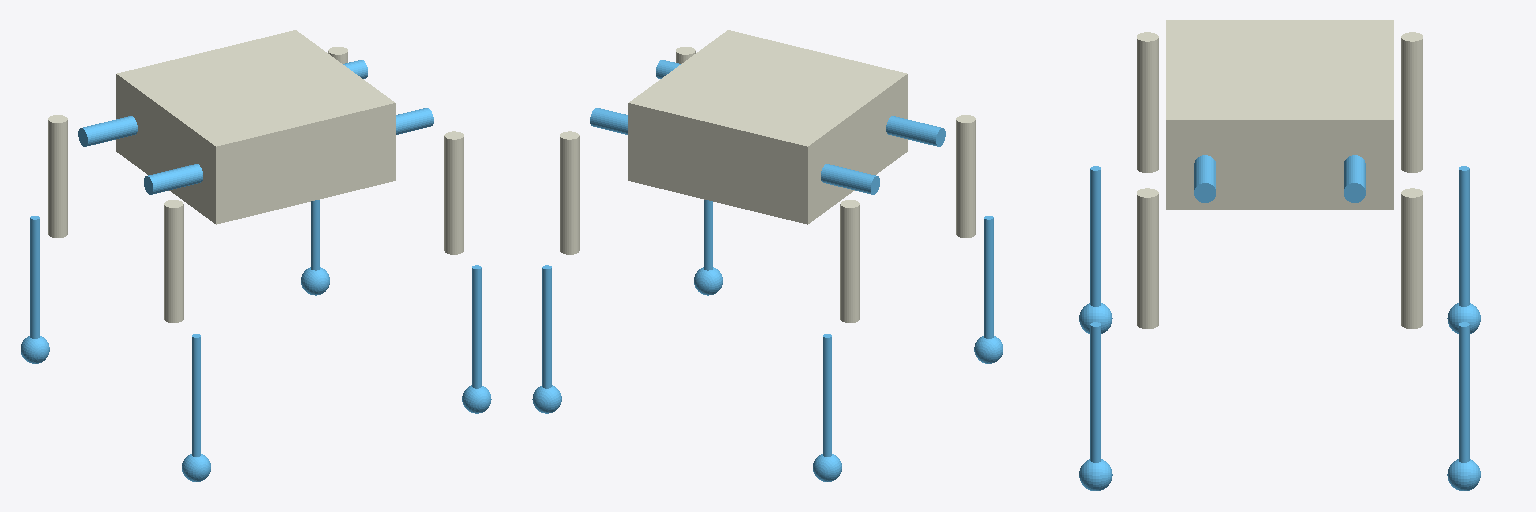
URDF robot description (mors_sim):
<?xml version="1.0" ?>
<!-- =================================================================================== -->
<!-- |    This document was autogenerated by xacro from mors.xacro                     | -->
<!-- |    EDITING THIS FILE BY HAND IS NOT RECOMMENDED                                 | -->
<!-- =================================================================================== -->
<robot name="mors_sim">
  <material name="black">
    <color rgba="0.0 0.0 0.0 1.0"/>
  </material>
  <material name="blue">
    <color rgba="0.0 0.0 0.8 1.0"/>
  </material>
  <material name="green">
    <color rgba="0.0 0.8 0.0 1.0"/>
  </material>
  <material name="grey">
    <color rgba="0.2 0.2 0.2 1.0"/>
  </material>
  <material name="silver">
    <color rgba="0.9137254901960784 0.9137254901960784 0.8470588235294118 1.0"/>
  </material>
  <material name="orange">
    <color rgba="1.0 0.4235294117647059 0.0392156862745098 1.0"/>
  </material>
  <material name="brown">
    <color rgba="0.8705882352941177 0.8117647058823529 0.7647058823529411 1.0"/>
  </material>
  <material name="white_gray">
    <color rgba="0.8235294117647058 0.8235294117647058 0.8235294117647058 1.0"/>
  </material>
  <material name="gold">
    <color rgba="0.8117647058823529 0.6784313725490196 0.30196078431372547 1.0"/>
  </material>
  <material name="white_blue">
    <color rgba="0.4627450980392157 0.8 0.9921568627450981 1.0"/>
  </material>
  <material name="white_black">
    <color rgba="0.49411764705882355 0.49411764705882355 0.49411764705882355 1.0"/>
  </material>
  <material name="red">
    <color rgba="0.8 0.0 0.0 1.0"/>
  </material>
  <material name="white">
    <color rgba="1.0 1.0 1.0 1.0"/>
  </material>
  <!-- candidate -->
  <!-- body -->
  <link name="base_link">
    <visual>
      <geometry>
        <box size="0.212 0.204 0.088"/>
      </geometry>
      <origin rpy="0 0 0" xyz="0 0 0"/>
      <material name="silver"/>
    </visual>
    <collision>
      <origin rpy="0 0 0" xyz="0 0 0"/>
      <geometry>
        <box size="0.212 0.204 0.088"/>
      </geometry>
    </collision>
    <!-- <inertial>
        <origin rpy="0 0 0" xyz="-0.00272 0.000875 0.000178"/>
        <mass value="0.001"/>
        <inertia ixx="0.000001" ixy="0.000001" ixz="0.000001" iyy="0.000001" iyz="0.000001" izz="0.000001"/>
      </inertial> -->
    <inertial>
      <origin rpy="0 0 0" xyz="-0.00272 0.000875 0.000178"/>
      <mass value="3.748"/>
      <inertia ixx="0.012838176" ixy="-6.851e-06" ixz="0.000156493" iyy="0.056852389" iyz="-9.5392e-05" izz="0.064034355"/>
    </inertial>
  </link>
  <!-- <link name="base_inertia">
      <inertial>
        <origin rpy="0 0 0" xyz="${body_cog_x} ${body_cog_y} ${body_cog_z}"/>
        <mass value="${body_mass}"/>
        <inertia ixx="${body_ixx}" ixy="${body_ixy}" ixz="${body_ixz}"
          iyy="${body_iyy}" iyz="${body_iyz}"
          izz="${body_izz}" />
      </inertial>
    </link>
    <joint name="base_link_to_base_inertia" type="fixed">
        <parent link="base_link"/>
        <child link="base_inertia"/>
        <origin rpy="0 0 0" xyz="0 0 0"/>
    </joint> -->
  <!-- abad -->
  <joint name="abad_joint_R1" type="revolute">
    <parent link="base_link"/>
    <child link="abad_R1"/>
    <origin rpy="-1.5707963267948966 0.0 -1.5707963267948966" xyz="0.1065 -0.067 0.0"/>
    <axis xyz="0 0 1"/>
    <dynamics damping="0.4" friction="0.55"/>
    <limit effort="2000" lower="-2.6179938779914944" upper="2.6179938779914944" velocity="30.0"/>
  </joint>
  <link name="abad_R1">
    <visual>
      <origin rpy="0 0 0" xyz="0 0 0.0295"/>
      <geometry>
        <cylinder length="0.059" radius="0.01"/>
      </geometry>
      <material name="white_blue"/>
    </visual>
    <collision>
      <origin rpy="0 0 0" xyz="0 0 0.0295"/>
      <geometry>
        <cylinder length="0.059" radius="0.01"/>
      </geometry>
    </collision>
    <inertial>
      <origin rpy="0 0 1.5707963267948966" xyz="-0.00606 -1.8e-05 0.058144"/>
      <mass value="0.309"/>
      <inertia ixx="0.000178705" ixy="-1.02e-07" ixz="-3.483e-06" iyy="0.000161337" iyz="-5e-09" izz="0.0001003"/>
    </inertial>
  </link>
  <!-- Hip-->
  <joint name="hip_joint_R1" type="revolute">
    <parent link="abad_R1"/>
    <child link="hip_R1"/>
    <origin rpy="1.5707963267948966 0.0 1.5707963267948966" xyz="0.0215 0.0 0.059"/>
    <axis xyz="0 0 1"/>
    <dynamics damping="0.4" friction="0.55"/>
    <limit effort="2000" lower="-2.6179938779914944" upper="2.6179938779914944" velocity="30.0"/>
  </joint>
  <link name="hip_R1">
    <visual>
      <origin rpy="0 1.5707963267948966 0" xyz="0.065 0 0.03"/>
      <geometry>
        <cylinder length="0.13" radius="0.01"/>
      </geometry>
      <material name="silver"/>
    </visual>
    <collision>
      <origin rpy="0 1.5707963267948966 0" xyz="0.065 0 0.03"/>
      <geometry>
        <cylinder length="0.13" radius="0.01"/>
      </geometry>
    </collision>
    <inertial>
      <origin rpy="0 0 0" xyz="0.034385 -0.000226 0.04482"/>
      <mass value="0.532"/>
      <inertia ixx="0.000279734" ixy="2.8e-07" ixz="-0.00025377" iyy="0.001715204" iyz="-1.2e-06" izz="0.001731949"/>
    </inertial>
  </link>
  <!-- Knee -->
  <joint name="knee_joint_R1" type="revolute">
    <parent link="hip_R1"/>
    <child link="knee_R1"/>
    <origin rpy="3.141592653589793 3.141592653589793 3.141592653589793" xyz="0.13 0.0 0.0645"/>
    <axis xyz="0 0 1"/>
    <dynamics damping="0.4" friction="0.55"/>
    <limit effort="2000" lower="-2.6179938779914944" upper="2.6179938779914944" velocity="30.0"/>
  </joint>
  <link name="knee_R1">
    <visual>
      <origin rpy="0 1.5707963267948966 0" xyz="0.07425 0 0.012"/>
      <geometry>
        <cylinder length="0.1485" radius="0.005"/>
      </geometry>
      <material name="white_blue"/>
    </visual>
    <collision>
      <origin rpy="0 1.5707963267948966 0" xyz="0.07425 0 0.012"/>
      <geometry>
        <cylinder length="0.1485" radius="0.005"/>
      </geometry>
    </collision>
    <inertial>
      <origin rpy="0 0 0" xyz="0.058408 0.0 0.009288"/>
      <mass value="0.049"/>
      <inertia ixx="3.796e-06" ixy="0.0" ixz="-7.744e-06" iyy="0.000208824" iyz="0.0" izz="0.00020873"/>
    </inertial>
  </link>
  <link name="ef_R1">
    <visual>
      <origin rpy="0 0 0" xyz="0 0 0"/>
      <geometry>
        <sphere radius="0.015"/>
      </geometry>
      <material name="white_blue"/>
    </visual>
    <collision>
      <geometry>
        <sphere radius="0.015"/>
      </geometry>
    </collision>
    <inertial>
      <origin rpy="0 0 0" xyz="-0.00272 0.000875 0.000178"/>
      <mass value="0.018"/>
      <inertia ixx="0.0000014" ixy="0.0" ixz="0.0" iyy="0.0000014" iyz="0.0" izz="0.0000014"/>
    </inertial>
  </link>
  <!-- End Effector-->
  <joint name="ef_joint_R1" type="fixed">
    <parent link="knee_R1"/>
    <child link="ef_R1"/>
    <origin rpy="0 0 0" xyz="0.1485 0.0 0.012"/>
  </joint>
  <!-- abad -->
  <joint name="abad_joint_L1" type="revolute">
    <parent link="base_link"/>
    <child link="abad_L1"/>
    <origin rpy="1.5707963267948966 0.0 1.5707963267948966" xyz="0.1065 0.067 0.0"/>
    <axis xyz="0 0 1"/>
    <dynamics damping="0.4" friction="0.55"/>
    <limit effort="2000" lower="-2.6179938779914944" upper="2.6179938779914944" velocity="30.0"/>
  </joint>
  <link name="abad_L1">
    <visual>
      <origin rpy="0 0 0" xyz="0 0 0.0295"/>
      <geometry>
        <cylinder length="0.059" radius="0.01"/>
      </geometry>
      <material name="white_blue"/>
    </visual>
    <collision>
      <origin rpy="0 0 0" xyz="0 0 0.0295"/>
      <geometry>
        <cylinder length="0.059" radius="0.01"/>
      </geometry>
    </collision>
    <inertial>
      <origin rpy="0 0 1.5707963267948966" xyz="-0.00606 -1.8e-05 0.058144"/>
      <mass value="0.309"/>
      <inertia ixx="0.000178705" ixy="-1.02e-07" ixz="-3.483e-06" iyy="0.000161337" iyz="-5e-09" izz="0.0001003"/>
    </inertial>
  </link>
  <!-- Hip-->
  <joint name="hip_joint_L1" type="revolute">
    <parent link="abad_L1"/>
    <child link="hip_L1"/>
    <origin rpy="-1.5707963267948966 0.0 -1.5707963267948966" xyz="0.0215 0.0 0.059"/>
    <axis xyz="0 0 1"/>
    <dynamics damping="0.4" friction="0.55"/>
    <limit effort="2000" lower="-2.6179938779914944" upper="2.6179938779914944" velocity="30.0"/>
  </joint>
  <link name="hip_L1">
    <visual>
      <origin rpy="0 1.5707963267948966 0" xyz="0.065 0 0.03"/>
      <geometry>
        <cylinder length="0.13" radius="0.01"/>
      </geometry>
      <material name="silver"/>
    </visual>
    <collision>
      <origin rpy="0 1.5707963267948966 0" xyz="0.065 0 0.03"/>
      <geometry>
        <cylinder length="0.13" radius="0.01"/>
      </geometry>
    </collision>
    <inertial>
      <origin rpy="0 0 0" xyz="0.034385 -0.000226 0.04482"/>
      <mass value="0.532"/>
      <inertia ixx="0.000279734" ixy="2.8e-07" ixz="-0.00025377" iyy="0.001715204" iyz="-1.2e-06" izz="0.001731949"/>
    </inertial>
  </link>
  <!-- Knee -->
  <joint name="knee_joint_L1" type="revolute">
    <parent link="hip_L1"/>
    <child link="knee_L1"/>
    <origin rpy="3.141592653589793 3.141592653589793 3.141592653589793" xyz="0.13 0.0 0.0645"/>
    <axis xyz="0 0 1"/>
    <dynamics damping="0.4" friction="0.55"/>
    <limit effort="2000" lower="-2.6179938779914944" upper="2.6179938779914944" velocity="30.0"/>
  </joint>
  <link name="knee_L1">
    <visual>
      <origin rpy="0 1.5707963267948966 0" xyz="0.07425 0 0.012"/>
      <geometry>
        <cylinder length="0.1485" radius="0.005"/>
      </geometry>
      <material name="white_blue"/>
    </visual>
    <collision>
      <origin rpy="0 1.5707963267948966 0" xyz="0.07425 0 0.012"/>
      <geometry>
        <cylinder length="0.1485" radius="0.005"/>
      </geometry>
    </collision>
    <inertial>
      <origin rpy="0 0 0" xyz="0.058408 0.0 0.009288"/>
      <mass value="0.049"/>
      <inertia ixx="3.796e-06" ixy="0.0" ixz="-7.744e-06" iyy="0.000208824" iyz="0.0" izz="0.00020873"/>
    </inertial>
  </link>
  <link name="ef_L1">
    <visual>
      <origin rpy="0 0 0" xyz="0 0 0"/>
      <geometry>
        <sphere radius="0.015"/>
      </geometry>
      <material name="white_blue"/>
    </visual>
    <collision>
      <geometry>
        <sphere radius="0.015"/>
      </geometry>
    </collision>
    <inertial>
      <origin rpy="0 0 0" xyz="-0.00272 0.000875 0.000178"/>
      <mass value="0.018"/>
      <inertia ixx="0.0000014" ixy="0.0" ixz="0.0" iyy="0.0000014" iyz="0.0" izz="0.0000014"/>
    </inertial>
  </link>
  <!-- End Effector-->
  <joint name="ef_joint_L1" type="fixed">
    <parent link="knee_L1"/>
    <child link="ef_L1"/>
    <origin rpy="0 0 0" xyz="0.1485 0.0 0.012"/>
  </joint>
  <!-- abad -->
  <joint name="abad_joint_R2" type="revolute">
    <parent link="base_link"/>
    <child link="abad_R2"/>
    <origin rpy="1.5707963267948966 0.0 -1.5707963267948966" xyz="-0.1065 -0.067 0.0"/>
    <axis xyz="0 0 1"/>
    <dynamics damping="0.4" friction="0.55"/>
    <limit effort="2000" lower="-2.6179938779914944" upper="2.6179938779914944" velocity="30.0"/>
  </joint>
  <link name="abad_R2">
    <visual>
      <origin rpy="0 0 0" xyz="0 0 0.0295"/>
      <geometry>
        <cylinder length="0.059" radius="0.01"/>
      </geometry>
      <material name="white_blue"/>
    </visual>
    <collision>
      <origin rpy="0 0 0" xyz="0 0 0.0295"/>
      <geometry>
        <cylinder length="0.059" radius="0.01"/>
      </geometry>
    </collision>
    <inertial>
      <origin rpy="0 0 1.5707963267948966" xyz="-0.00606 -1.8e-05 0.058144"/>
      <mass value="0.309"/>
      <inertia ixx="0.000178705" ixy="-1.02e-07" ixz="-3.483e-06" iyy="0.000161337" iyz="-5e-09" izz="0.0001003"/>
    </inertial>
  </link>
  <!-- Hip-->
  <joint name="hip_joint_R2" type="revolute">
    <parent link="abad_R2"/>
    <child link="hip_R2"/>
    <origin rpy="-1.5707963267948966 0.0 -1.5707963267948966" xyz="0.0215 0.0 0.059"/>
    <axis xyz="0 0 1"/>
    <dynamics damping="0.4" friction="0.55"/>
    <limit effort="2000" lower="-2.6179938779914944" upper="2.6179938779914944" velocity="30.0"/>
  </joint>
  <link name="hip_R2">
    <visual>
      <origin rpy="0 1.5707963267948966 0" xyz="0.065 0 0.03"/>
      <geometry>
        <cylinder length="0.13" radius="0.01"/>
      </geometry>
      <material name="silver"/>
    </visual>
    <collision>
      <origin rpy="0 1.5707963267948966 0" xyz="0.065 0 0.03"/>
      <geometry>
        <cylinder length="0.13" radius="0.01"/>
      </geometry>
    </collision>
    <inertial>
      <origin rpy="0 0 0" xyz="0.034385 -0.000226 0.04482"/>
      <mass value="0.532"/>
      <inertia ixx="0.000279734" ixy="2.8e-07" ixz="-0.00025377" iyy="0.001715204" iyz="-1.2e-06" izz="0.001731949"/>
    </inertial>
  </link>
  <!-- Knee -->
  <joint name="knee_joint_R2" type="revolute">
    <parent link="hip_R2"/>
    <child link="knee_R2"/>
    <origin rpy="3.141592653589793 3.141592653589793 3.141592653589793" xyz="0.13 0.0 0.0645"/>
    <axis xyz="0 0 1"/>
    <dynamics damping="0.4" friction="0.55"/>
    <limit effort="2000" lower="-2.6179938779914944" upper="2.6179938779914944" velocity="30.0"/>
  </joint>
  <link name="knee_R2">
    <visual>
      <origin rpy="0 1.5707963267948966 0" xyz="0.07425 0 0.012"/>
      <geometry>
        <cylinder length="0.1485" radius="0.005"/>
      </geometry>
      <material name="white_blue"/>
    </visual>
    <collision>
      <origin rpy="0 1.5707963267948966 0" xyz="0.07425 0 0.012"/>
      <geometry>
        <cylinder length="0.1485" radius="0.005"/>
      </geometry>
    </collision>
    <inertial>
      <origin rpy="0 0 0" xyz="0.058408 0.0 0.009288"/>
      <mass value="0.049"/>
      <inertia ixx="3.796e-06" ixy="0.0" ixz="-7.744e-06" iyy="0.000208824" iyz="0.0" izz="0.00020873"/>
    </inertial>
  </link>
  <link name="ef_R2">
    <visual>
      <origin rpy="0 0 0" xyz="0 0 0"/>
      <geometry>
        <sphere radius="0.015"/>
      </geometry>
      <material name="white_blue"/>
    </visual>
    <collision>
      <geometry>
        <sphere radius="0.015"/>
      </geometry>
    </collision>
    <inertial>
      <origin rpy="0 0 0" xyz="-0.00272 0.000875 0.000178"/>
      <mass value="0.018"/>
      <inertia ixx="0.0000014" ixy="0.0" ixz="0.0" iyy="0.0000014" iyz="0.0" izz="0.0000014"/>
    </inertial>
  </link>
  <!-- End Effector-->
  <joint name="ef_joint_R2" type="fixed">
    <parent link="knee_R2"/>
    <child link="ef_R2"/>
    <origin rpy="0 0 0" xyz="0.1485 0.0 0.012"/>
  </joint>
  <!-- abad -->
  <joint name="abad_joint_L2" type="revolute">
    <parent link="base_link"/>
    <child link="abad_L2"/>
    <origin rpy="-1.5707963267948966 0.0 1.5707963267948966" xyz="-0.1065 0.067 0.0"/>
    <axis xyz="0 0 1"/>
    <dynamics damping="0.4" friction="0.55"/>
    <limit effort="2000" lower="-2.6179938779914944" upper="2.6179938779914944" velocity="30.0"/>
  </joint>
  <link name="abad_L2">
    <visual>
      <origin rpy="0 0 0" xyz="0 0 0.0295"/>
      <geometry>
        <cylinder length="0.059" radius="0.01"/>
      </geometry>
      <material name="white_blue"/>
    </visual>
    <collision>
      <origin rpy="0 0 0" xyz="0 0 0.0295"/>
      <geometry>
        <cylinder length="0.059" radius="0.01"/>
      </geometry>
    </collision>
    <inertial>
      <origin rpy="0 0 1.5707963267948966" xyz="-0.00606 -1.8e-05 0.058144"/>
      <mass value="0.309"/>
      <inertia ixx="0.000178705" ixy="-1.02e-07" ixz="-3.483e-06" iyy="0.000161337" iyz="-5e-09" izz="0.0001003"/>
    </inertial>
  </link>
  <!-- Hip-->
  <joint name="hip_joint_L2" type="revolute">
    <parent link="abad_L2"/>
    <child link="hip_L2"/>
    <origin rpy="1.5707963267948966 0.0 1.5707963267948966" xyz="0.0215 0.0 0.059"/>
    <axis xyz="0 0 1"/>
    <dynamics damping="0.4" friction="0.55"/>
    <limit effort="2000" lower="-2.6179938779914944" upper="2.6179938779914944" velocity="30.0"/>
  </joint>
  <link name="hip_L2">
    <visual>
      <origin rpy="0 1.5707963267948966 0" xyz="0.065 0 0.03"/>
      <geometry>
        <cylinder length="0.13" radius="0.01"/>
      </geometry>
      <material name="silver"/>
    </visual>
    <collision>
      <origin rpy="0 1.5707963267948966 0" xyz="0.065 0 0.03"/>
      <geometry>
        <cylinder length="0.13" radius="0.01"/>
      </geometry>
    </collision>
    <inertial>
      <origin rpy="0 0 0" xyz="0.034385 -0.000226 0.04482"/>
      <mass value="0.532"/>
      <inertia ixx="0.000279734" ixy="2.8e-07" ixz="-0.00025377" iyy="0.001715204" iyz="-1.2e-06" izz="0.001731949"/>
    </inertial>
  </link>
  <!-- Knee -->
  <joint name="knee_joint_L2" type="revolute">
    <parent link="hip_L2"/>
    <child link="knee_L2"/>
    <origin rpy="3.141592653589793 3.141592653589793 3.141592653589793" xyz="0.13 0.0 0.0645"/>
    <axis xyz="0 0 1"/>
    <dynamics damping="0.4" friction="0.55"/>
    <limit effort="2000" lower="-2.6179938779914944" upper="2.6179938779914944" velocity="30.0"/>
  </joint>
  <link name="knee_L2">
    <visual>
      <origin rpy="0 1.5707963267948966 0" xyz="0.07425 0 0.012"/>
      <geometry>
        <cylinder length="0.1485" radius="0.005"/>
      </geometry>
      <material name="white_blue"/>
    </visual>
    <collision>
      <origin rpy="0 1.5707963267948966 0" xyz="0.07425 0 0.012"/>
      <geometry>
        <cylinder length="0.1485" radius="0.005"/>
      </geometry>
    </collision>
    <inertial>
      <origin rpy="0 0 0" xyz="0.058408 0.0 0.009288"/>
      <mass value="0.049"/>
      <inertia ixx="3.796e-06" ixy="0.0" ixz="-7.744e-06" iyy="0.000208824" iyz="0.0" izz="0.00020873"/>
    </inertial>
  </link>
  <link name="ef_L2">
    <visual>
      <origin rpy="0 0 0" xyz="0 0 0"/>
      <geometry>
        <sphere radius="0.015"/>
      </geometry>
      <material name="white_blue"/>
    </visual>
    <collision>
      <geometry>
        <sphere radius="0.015"/>
      </geometry>
    </collision>
    <inertial>
      <origin rpy="0 0 0" xyz="-0.00272 0.000875 0.000178"/>
      <mass value="0.018"/>
      <inertia ixx="0.0000014" ixy="0.0" ixz="0.0" iyy="0.0000014" iyz="0.0" izz="0.0000014"/>
    </inertial>
  </link>
  <!-- End Effector-->
  <joint name="ef_joint_L2" type="fixed">
    <parent link="knee_L2"/>
    <child link="ef_L2"/>
    <origin rpy="0 0 0" xyz="0.1485 0.0 0.012"/>
  </joint>
</robot>

--- Render facts (derived) ---
The picture shows the robot from 3 angles, left to right: view 1: azimuth 30°, elevation 25°; view 2: azimuth 150°, elevation 25°; view 3: azimuth 270°, elevation 25°; orthographic projection.
Model mors_sim with 17 links and 16 joints (12 revolute, 4 fixed), rooted at base_link, posed every joint at zero.
Links seen in each view (by area): view 1: base_link, hip_R1, hip_R2, hip_L2, knee_R1, knee_L2, abad_L2, abad_R2, knee_R2, abad_R1, ef_R2, ef_R1 (+3 smaller); view 2: base_link, hip_L1, hip_R2, hip_L2, knee_L1, knee_R2, abad_R2, abad_L2, knee_L2, abad_L1, ef_L2, ef_L1 (+3 smaller); view 3: base_link, hip_R2, hip_L2, hip_R1, hip_L1, knee_R2, knee_L2, knee_R1, knee_L1, abad_R1, abad_L1, ef_R1 (+3 smaller).
Boxes of the visible links, x1,y1,x2,y2 form: base_link: [116, 30, 395, 224]; hip_R1: [444, 131, 463, 254]; hip_R2: [164, 200, 183, 322]; hip_L2: [48, 115, 67, 237]; knee_R1: [472, 265, 481, 388]; knee_L2: [30, 216, 39, 338]; abad_L2: [78, 116, 137, 146]; abad_R2: [144, 164, 202, 194]; knee_R2: [192, 334, 200, 456]; abad_R1: [396, 108, 433, 134]; ef_R2: [182, 454, 210, 481]; ef_R1: [462, 385, 491, 413]; base_link: [628, 30, 907, 224]; hip_L1: [560, 131, 579, 254]; hip_R2: [956, 115, 975, 237]; hip_L2: [840, 200, 859, 322]; knee_L1: [542, 265, 551, 388]; knee_R2: [984, 216, 993, 338]; abad_R2: [886, 116, 945, 146]; abad_L2: [821, 164, 879, 194]; knee_L2: [823, 334, 831, 456]; abad_L1: [590, 108, 627, 134]; ef_L2: [813, 454, 841, 481]; ef_L1: [532, 385, 561, 413]; base_link: [1166, 20, 1393, 209]; hip_R2: [1137, 32, 1158, 172]; hip_L2: [1401, 32, 1422, 172]; hip_R1: [1137, 188, 1158, 328]; hip_L1: [1401, 188, 1422, 328]; knee_R2: [1090, 166, 1100, 306]; knee_L2: [1459, 166, 1469, 306]; knee_R1: [1090, 322, 1100, 462]; knee_L1: [1459, 322, 1469, 462]; abad_R1: [1194, 155, 1215, 202]; abad_L1: [1344, 155, 1365, 202]; ef_R1: [1079, 459, 1112, 490].
Bounding box of the posed robot: 0.361 × 0.36 × 0.3375 m (x, y, z).
Geometry: primitives only (box / cylinder / sphere), no mesh files.
